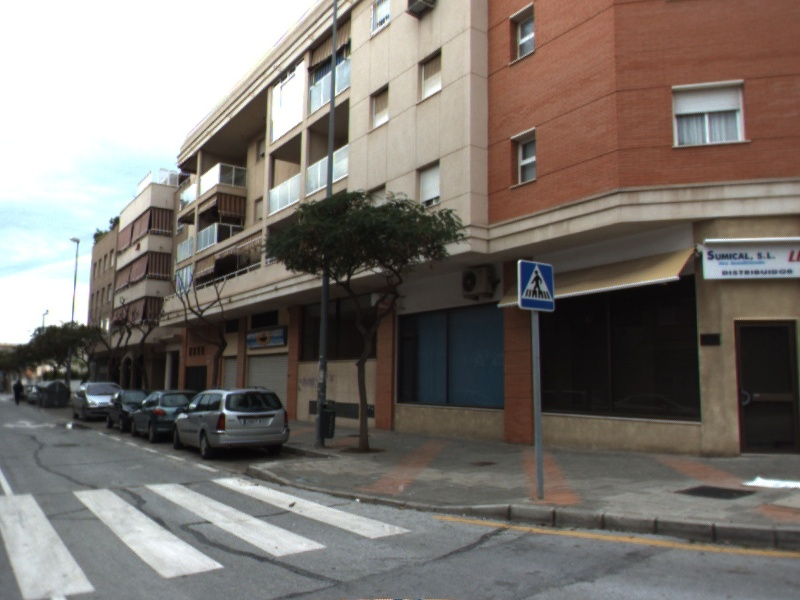STRAIGHT_LEFT_RIGHT: (1, 414, 60, 432)
